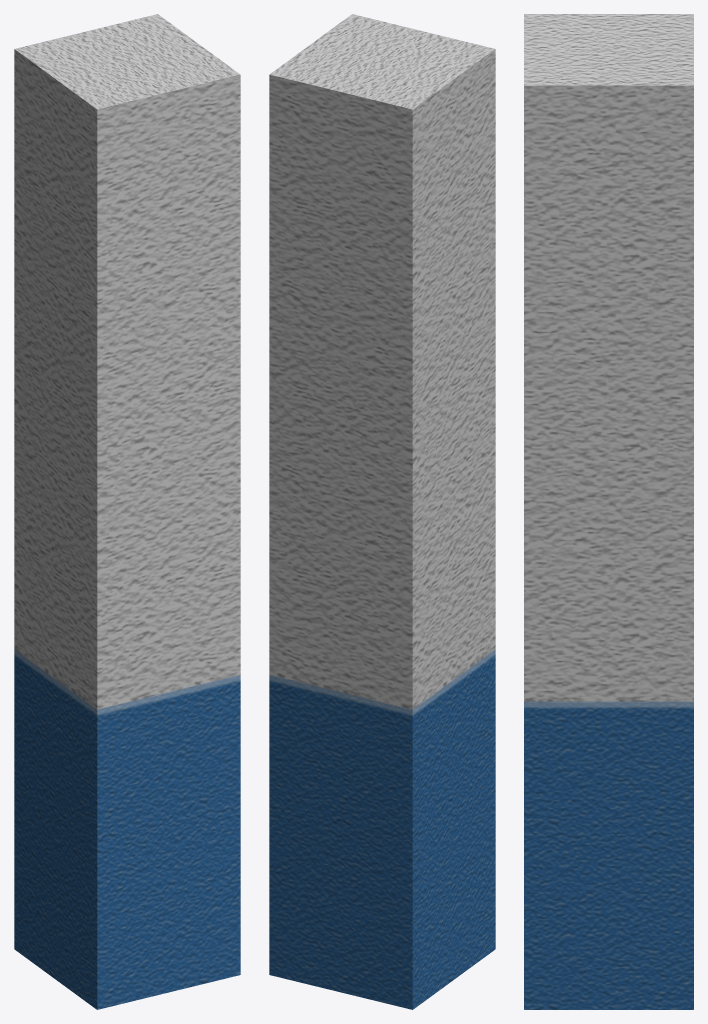
File: corner_wall.fbx
The picture shows the model from 3 angles, left to right: view 1: azimuth 30°, elevation 25°; view 2: azimuth 150°, elevation 25°; view 3: azimuth 270°, elevation 25°; orthographic projection. The views are drawn at different scales.
Parts seen in each view (by area): view 1: Plane.004; view 2: Plane.004; view 3: Plane.004.
Part boxes in pixels (bbox=[...]): Plane.004: bbox=[14, 14, 240, 1009]; Plane.004: bbox=[269, 14, 495, 1009]; Plane.004: bbox=[524, 14, 693, 1009].
Size of the model in its own units: 100 by 600 by 100.
Materials: 1 (1 with a texture image).
